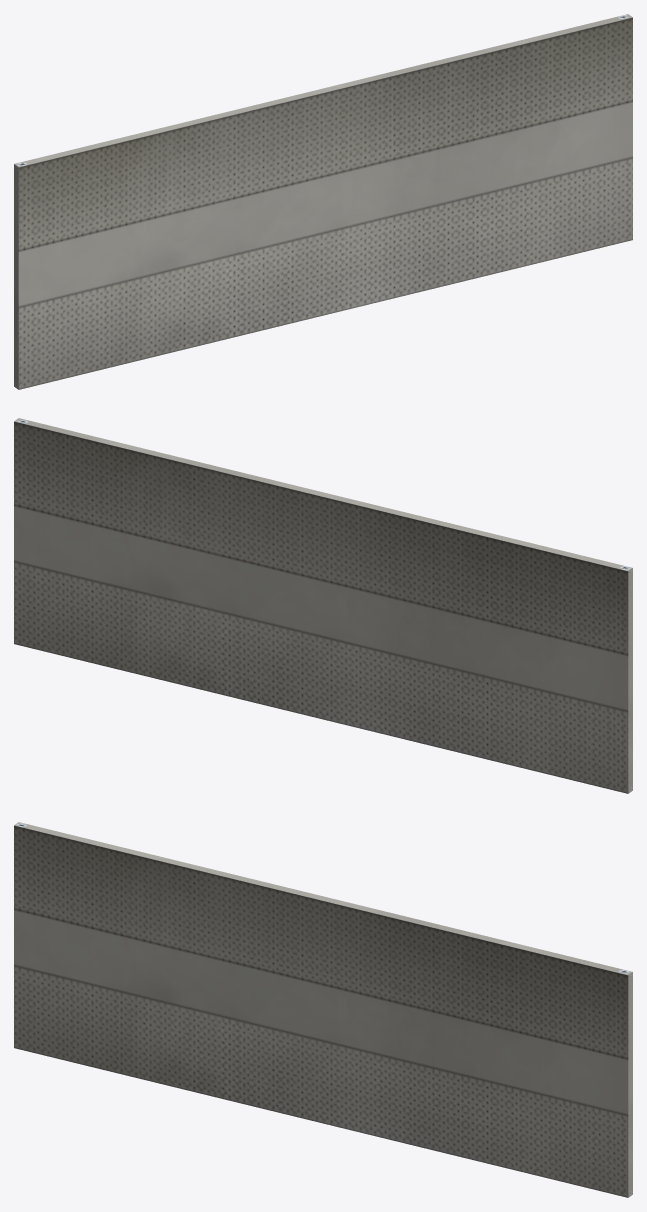
File: Shelf_Back.fbx
3 renders of one model, top to bottom at view 1: azimuth 30°, elevation 25°; view 2: azimuth 150°, elevation 25°; view 3: azimuth 330°, elevation 25°, orthographic.
Parts seen in each view (by area): view 1: Shelf_Back_1; view 2: Shelf_Back_1; view 3: Shelf_Back_1.
Boxes of the visible parts, x1,y1,x2,y2 form: Shelf_Back_1: (14, 14, 632, 389); Shelf_Back_1: (14, 418, 632, 793); Shelf_Back_1: (14, 822, 632, 1197).
Bounding box in the file's own units: 932 × 323 × 12.39.
